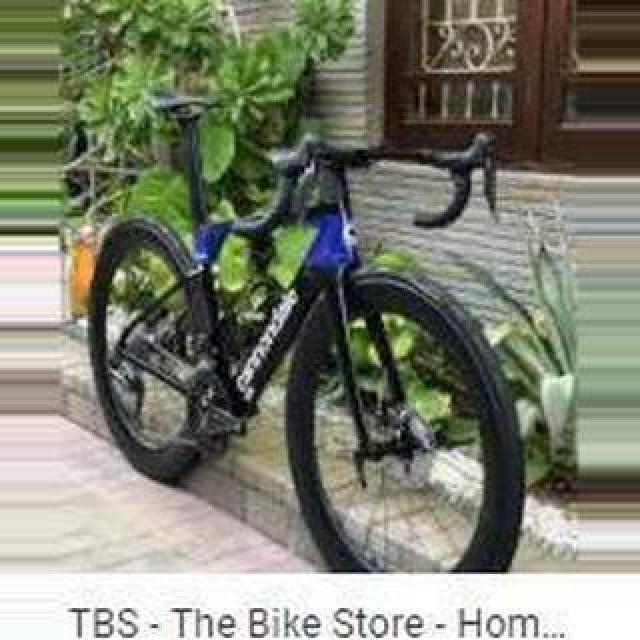Person: (78, 86, 538, 570)
